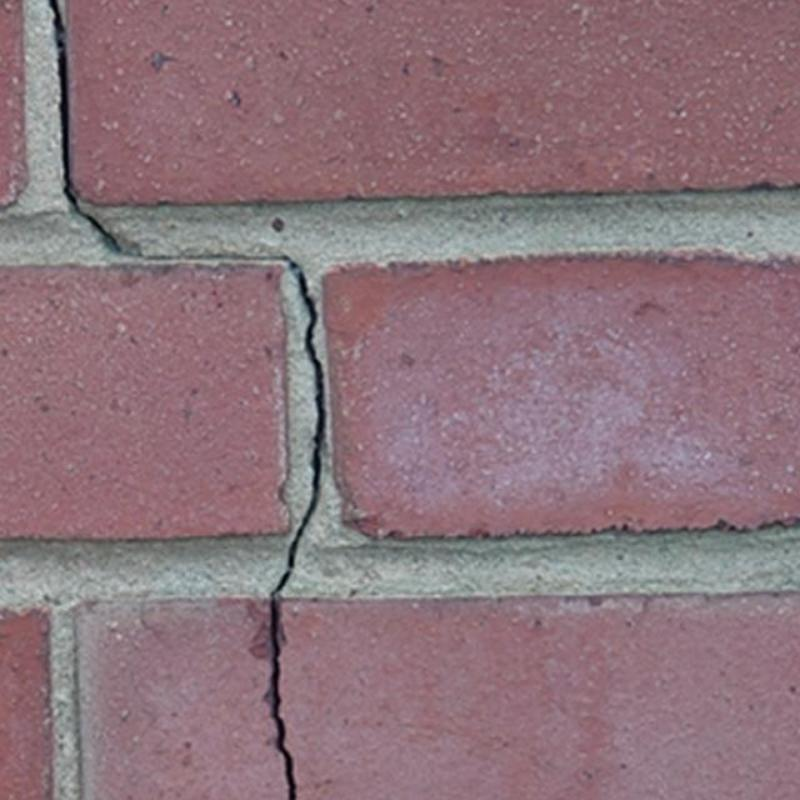crack: (48, 1, 325, 800)
